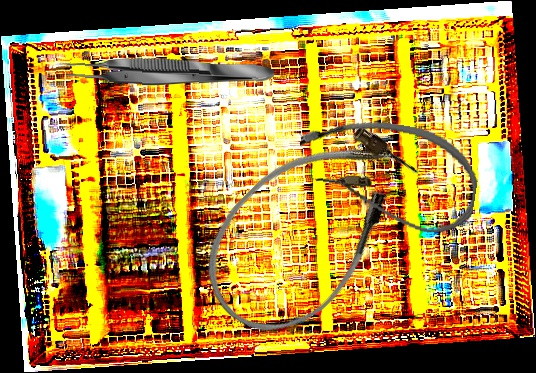Cannula: (176, 96, 441, 360), (289, 109, 485, 240)
Tissue Forceps: (66, 55, 275, 89)
